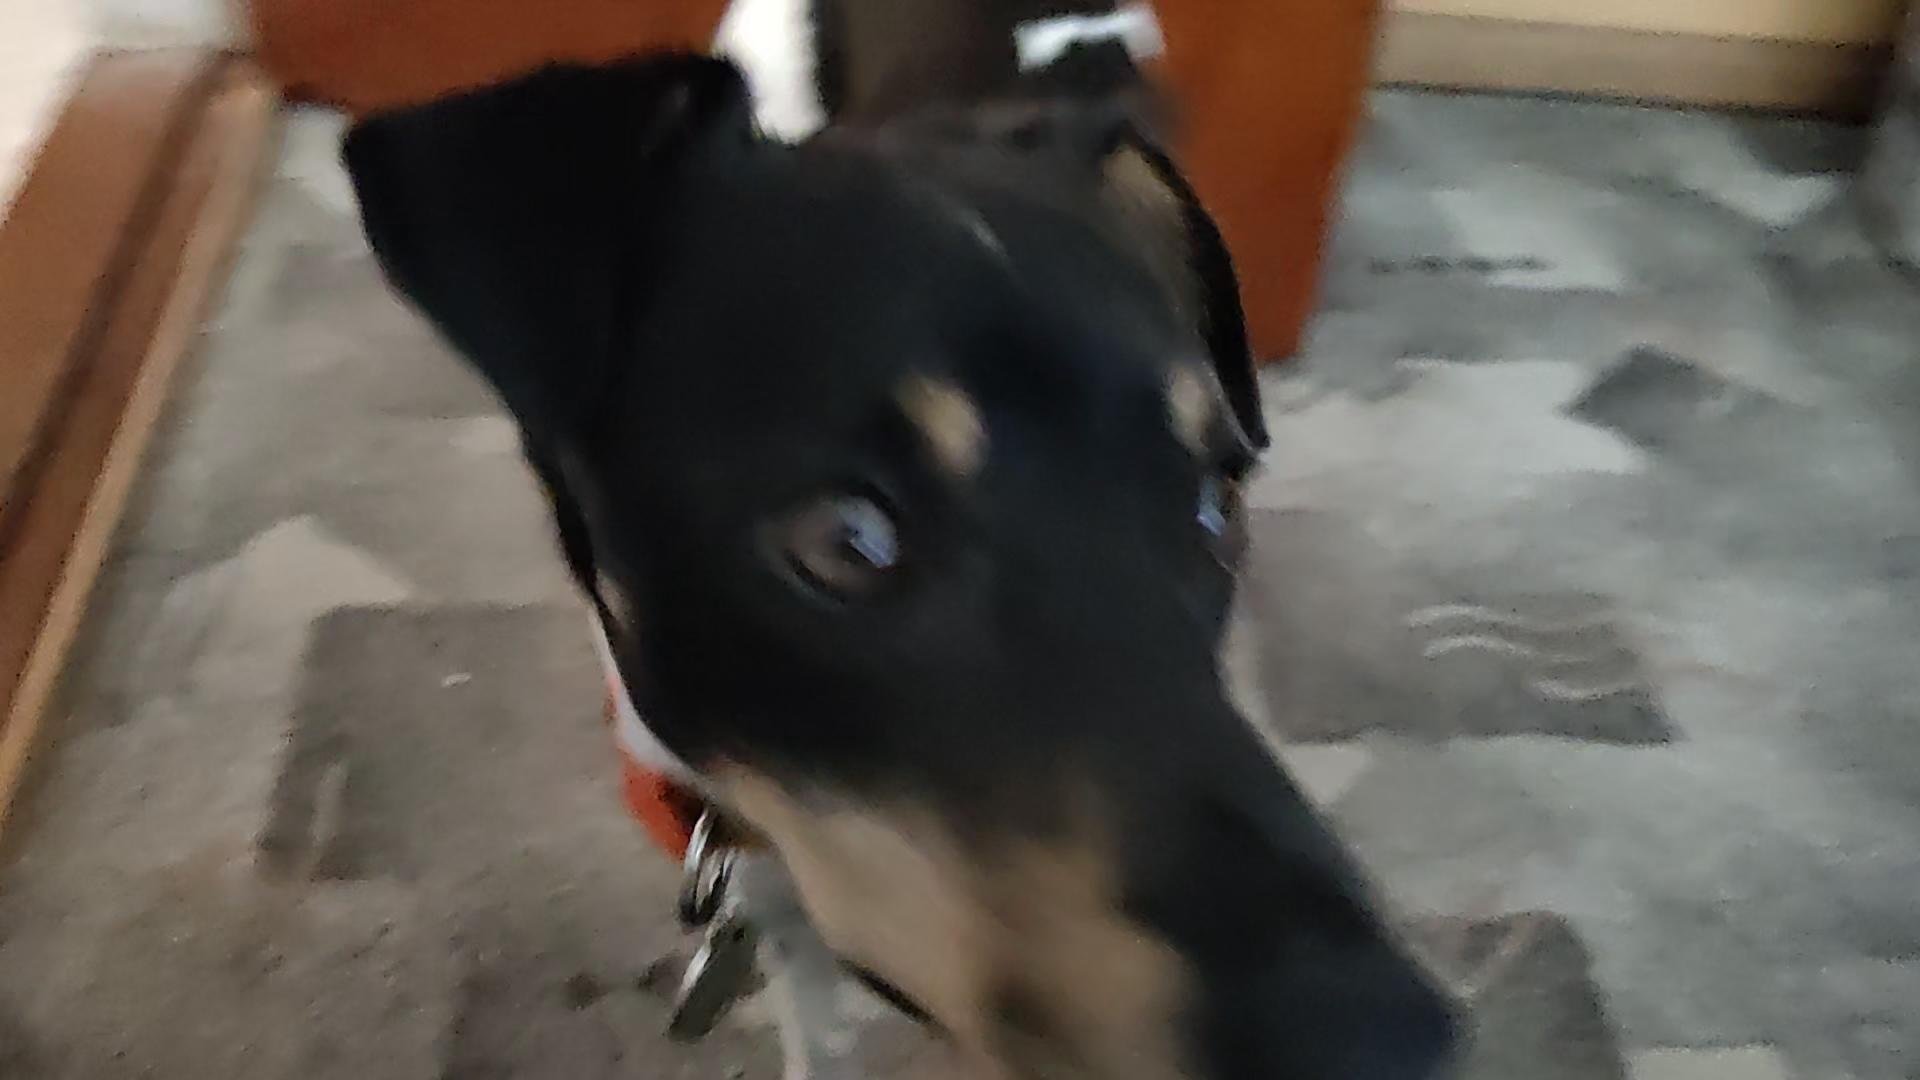Dog: (323, 0, 1489, 1080)
